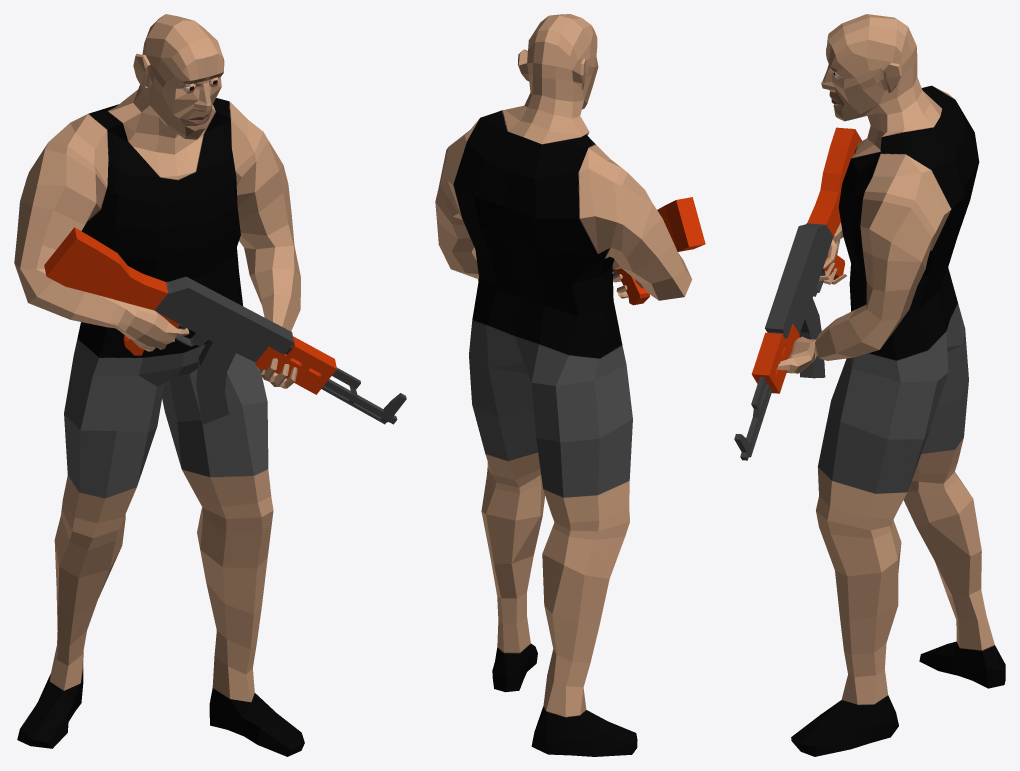
The model's file is PlayerIdle(104).obj.
3 views of the same model, side by side, from view 1: azimuth 30°, elevation 25°; view 2: azimuth 150°, elevation 25°; view 3: azimuth 270°, elevation 25° (orthographic). The views are drawn at different scales.
Parts seen in each view (by area): view 1: Plane002, Object001; view 2: Plane002, Object001; view 3: Plane002, Object001.
Boxes of the visible parts, x1,y1,x2,y2 form: Plane002: (14, 14, 304, 756); Object001: (44, 227, 406, 424); Plane002: (435, 14, 692, 756); Object001: (478, 197, 705, 305); Plane002: (776, 14, 1005, 756); Object001: (734, 127, 861, 460).
Size of the model in its own units: 790 by 1803 by 637.
